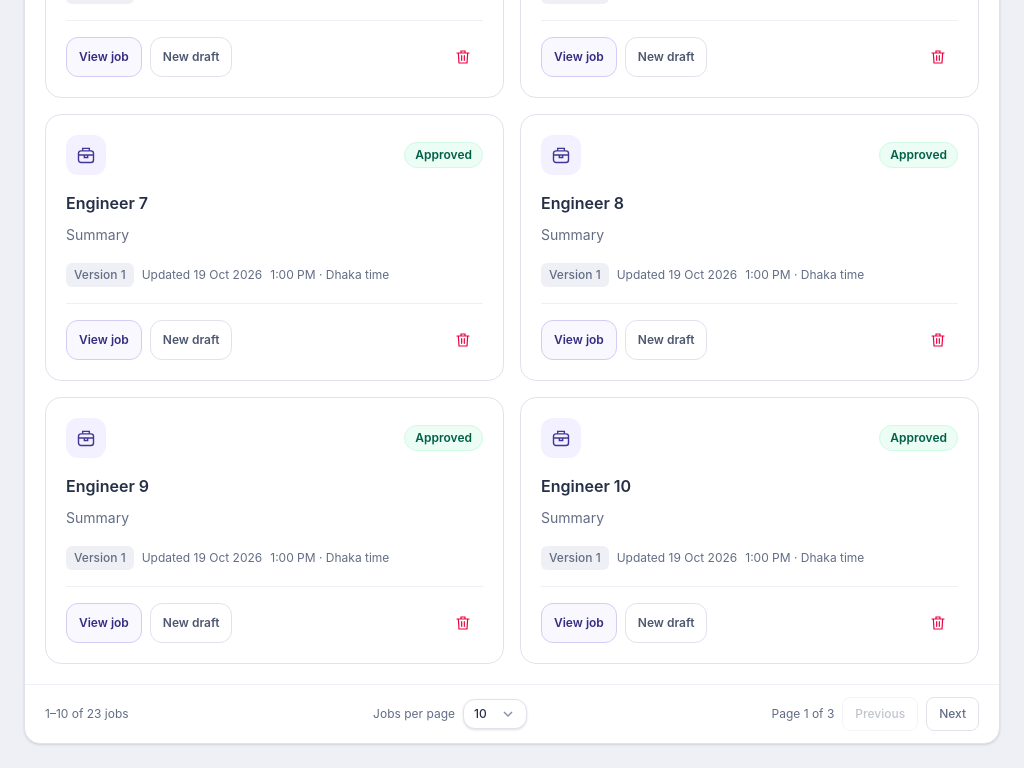
Scenario: paginates jobs and resets the page when filtering
(page scrolled)
Expected: the text "1–10 of 23 jobs" is shown, [45, 706, 129, 722]
Click the button "Next": (953, 714) [926, 697, 979, 731]
(page scrolled)
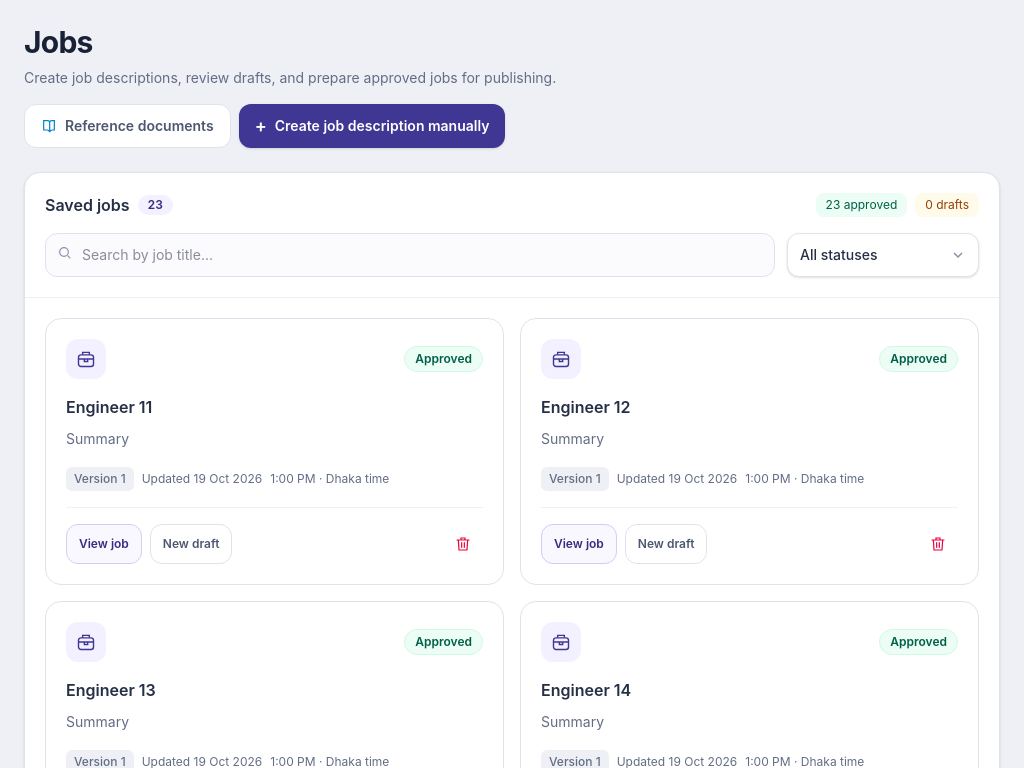
Expected: the heading "Engineer 11" is shown, [66, 397, 152, 417]
In the search field: (410, 255) [45, 233, 775, 277], type "Engineer 23"
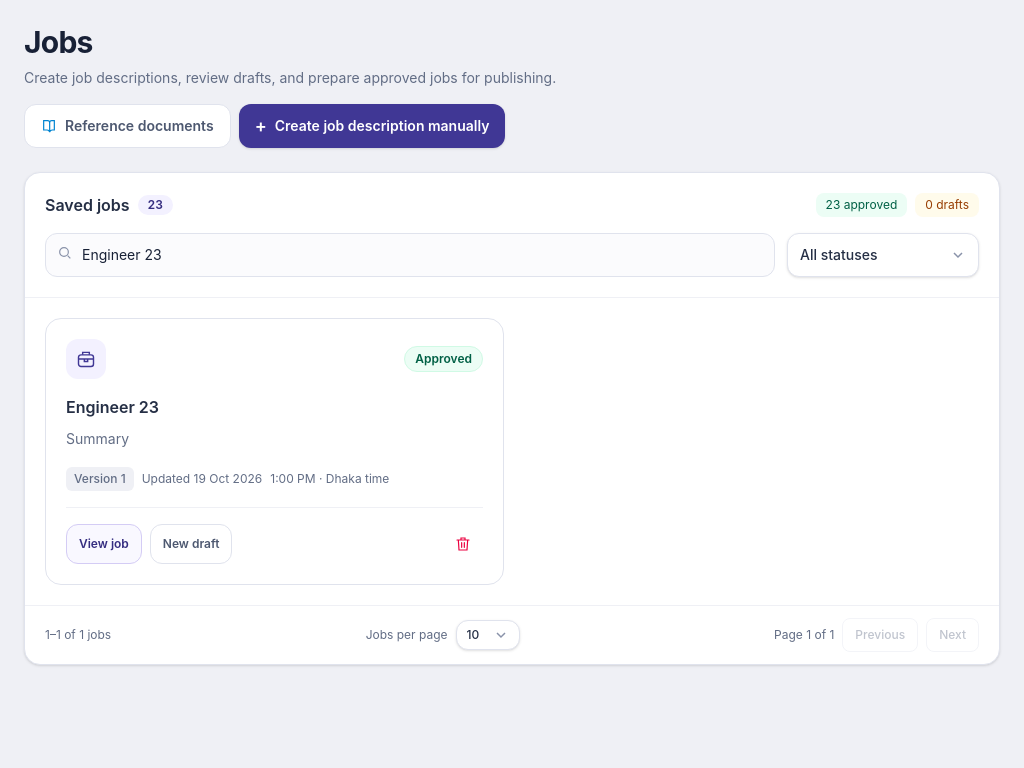
Expected: the text "Page 1 of 1" is shown, [774, 627, 834, 643]
Expected: the text "1–1 of 1 jobs" is shown, [45, 627, 111, 643]
